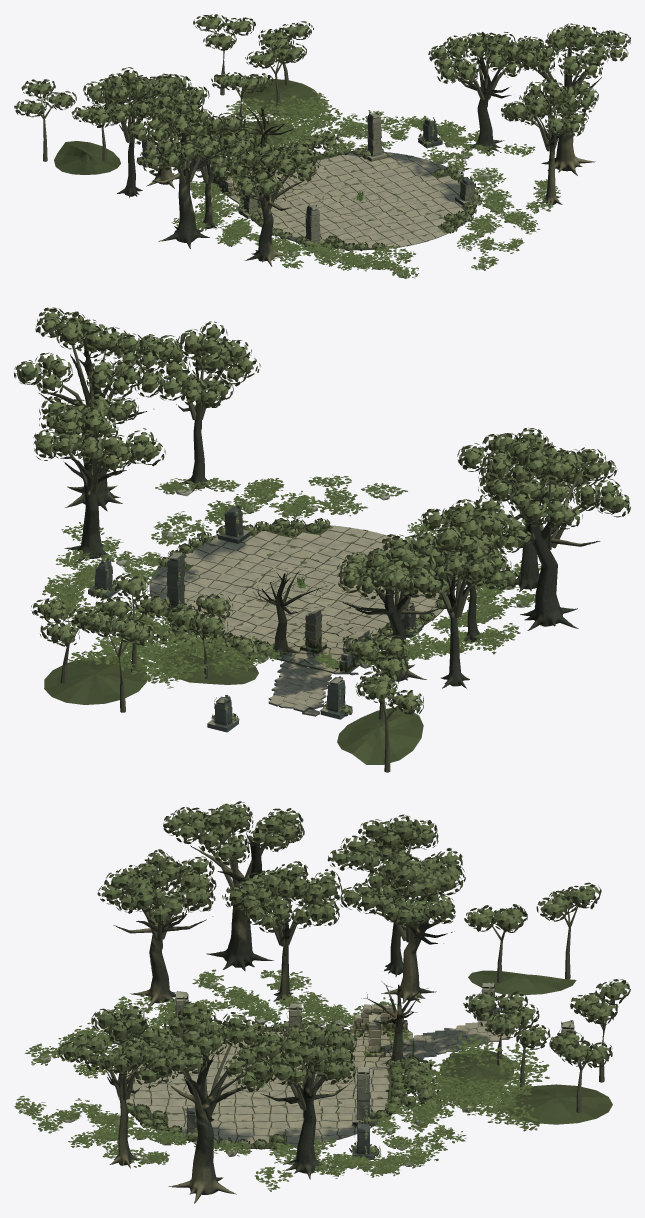
Rendered from hub-art.glb.
The picture shows the model from 3 angles, top to bottom: view 1: azimuth 30°, elevation 25°; view 2: azimuth 150°, elevation 25°; view 3: azimuth 270°, elevation 25°; orthographic projection. The views are drawn at different scales.
Parts seen in each view (by area): view 1: PD12_Hub_Foliage_Crowns, PD11_Foliage_hub-art, HubArt_Paving, HubArt_Trees, PD13_Hub_Foliage_MiddleLayer, PD13_Hub_Earth_WoodlandShoulders, HubArt_Ruins, PD13_Hub_Wood_CrownBranches, PD12_Hub_Foliage_PavingEdges, PD12_Hub_Foliage_Creepers, PD13_Hub_Wood_MiddleLayer, HubArt_CornerStone (+3 smaller); view 2: PD12_Hub_Foliage_Crowns, PD11_Foliage_hub-art, HubArt_Paving, HubArt_Trees, PD13_Hub_Foliage_MiddleLayer, PD13_Hub_Earth_WoodlandShoulders, HubArt_Ruins, PD13_Hub_Wood_CrownBranches, HubArt_CornerStone, PD12_Hub_Foliage_Creepers, HubArt_CornerPaving, PD12_Hub_Foliage_PavingEdges (+2 smaller); view 3: PD12_Hub_Foliage_Crowns, PD11_Foliage_hub-art, HubArt_Paving, HubArt_Trees, PD13_Hub_Foliage_MiddleLayer, PD13_Hub_Earth_WoodlandShoulders, PD13_Hub_Wood_CrownBranches, HubArt_Ruins, HubArt_CornerStone, PD12_Hub_Foliage_Creepers, PD12_Hub_Foliage_PavingEdges, PD13_Hub_Wood_MiddleLayer (+2 smaller).
Boxes of the visible parts, x1=… form: PD12_Hub_Foliage_Crowns: x1=83, y1=23, x2=630, y2=200; PD11_Foliage_hub-art: x1=171, y1=90, x2=560, y2=278; HubArt_Paving: x1=156, y1=148, x2=476, y2=250; HubArt_Trees: x1=117, y1=48, x2=601, y2=266; PD13_Hub_Foliage_MiddleLayer: x1=14, y1=14, x2=313, y2=125; PD13_Hub_Earth_WoodlandShoulders: x1=54, y1=79, x2=320, y2=174; HubArt_Ruins: x1=137, y1=109, x2=479, y2=246; PD13_Hub_Wood_CrownBranches: x1=100, y1=34, x2=607, y2=209; PD12_Hub_Foliage_PavingEdges: x1=238, y1=146, x2=481, y2=251; PD12_Hub_Foliage_Creepers: x1=136, y1=113, x2=480, y2=247; PD13_Hub_Wood_MiddleLayer: x1=38, y1=29, x2=294, y2=161; HubArt_CornerStone: x1=211, y1=104, x2=294, y2=198; PD12_Hub_Foliage_Crowns: x1=14, y1=307, x2=630, y2=599; PD11_Foliage_hub-art: x1=42, y1=474, x2=541, y2=688; HubArt_Paving: x1=149, y1=524, x2=449, y2=716; HubArt_Trees: x1=38, y1=347, x2=600, y2=688; PD13_Hub_Foliage_MiddleLayer: x1=31, y1=574, x2=423, y2=715; PD13_Hub_Earth_WoodlandShoulders: x1=44, y1=650, x2=423, y2=764; HubArt_Ruins: x1=88, y1=506, x2=451, y2=732; PD13_Hub_Wood_CrownBranches: x1=39, y1=339, x2=600, y2=619; HubArt_CornerStone: x1=256, y1=570, x2=378, y2=672; PD12_Hub_Foliage_Creepers: x1=89, y1=505, x2=462, y2=724; HubArt_CornerPaving: x1=270, y1=614, x2=391, y2=675; PD12_Hub_Foliage_PavingEdges: x1=158, y1=518, x2=456, y2=647; PD12_Hub_Foliage_Crowns: x1=58, y1=801, x2=465, y2=1092; PD11_Foliage_hub-art: x1=14, y1=969, x2=549, y2=1191; HubArt_Paving: x1=116, y1=1018, x2=511, y2=1148; HubArt_Trees: x1=106, y1=829, x2=452, y2=1203; PD13_Hub_Foliage_MiddleLayer: x1=463, y1=882, x2=630, y2=1067; PD13_Hub_Earth_WoodlandShoulders: x1=439, y1=970, x2=612, y2=1124; PD13_Hub_Wood_CrownBranches: x1=99, y1=810, x2=445, y2=1114; HubArt_Ruins: x1=170, y1=982, x2=578, y2=1159; HubArt_CornerStone: x1=350, y1=981, x2=428, y2=1068; PD12_Hub_Foliage_Creepers: x1=168, y1=982, x2=574, y2=1157; PD12_Hub_Foliage_PavingEdges: x1=127, y1=1022, x2=405, y2=1149; PD13_Hub_Wood_MiddleLayer: x1=489, y1=903, x2=609, y2=1112.
Size of the model in its own units: 59.34 by 17.76 by 54.4.
19 materials, 5 textured.
